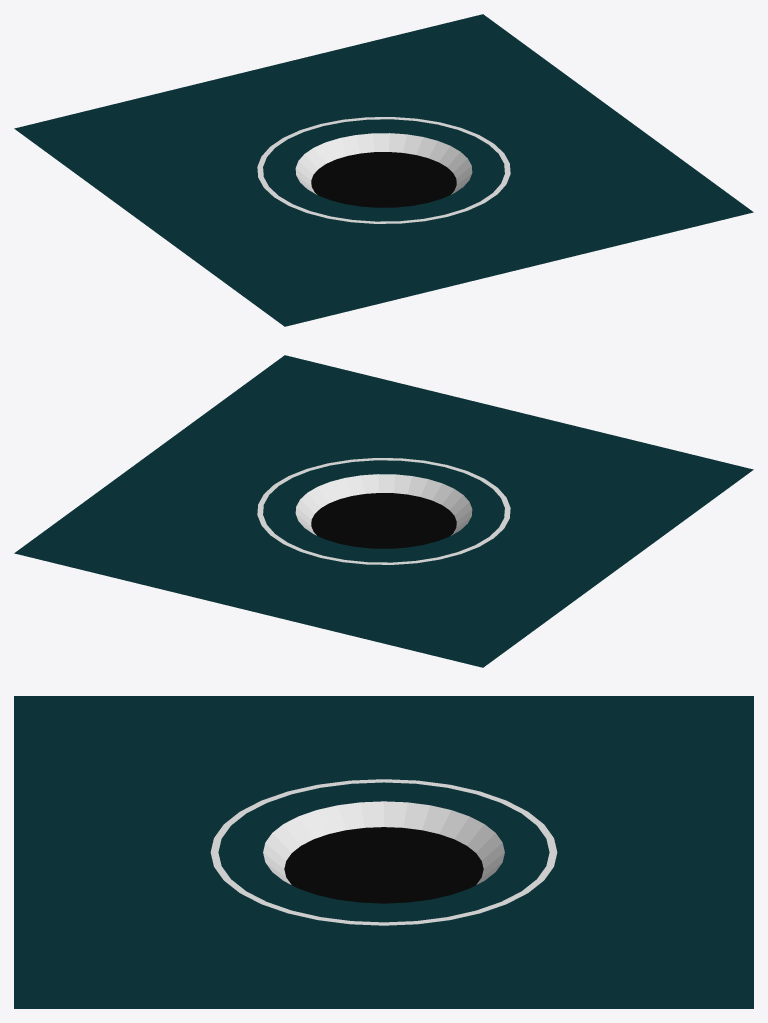
The model's file is sunken_floor_tile.fbx.
3 renders of one model, top to bottom at view 1: azimuth 30°, elevation 25°; view 2: azimuth 150°, elevation 25°; view 3: azimuth 270°, elevation 25°, orthographic. The views are drawn at different scales.
Visible parts, largest first — view 1: sunken square; view 2: sunken square; view 3: sunken square.
Boxes of the visible parts, left/top/right/bottom form: sunken square: left=14, top=14, right=753, bottom=326; sunken square: left=14, top=355, right=753, bottom=667; sunken square: left=14, top=696, right=753, bottom=1008.
Bounding box in the file's own units: 100 × 2.5 × 100.
